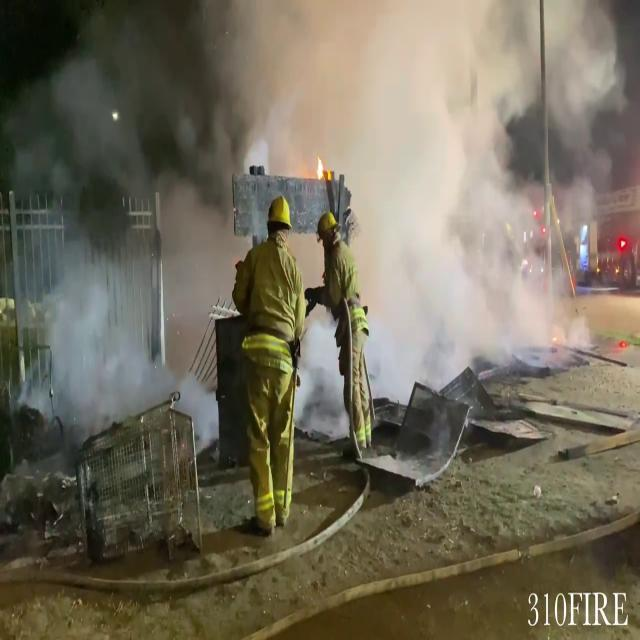Smoke: (19, 0, 637, 376)
